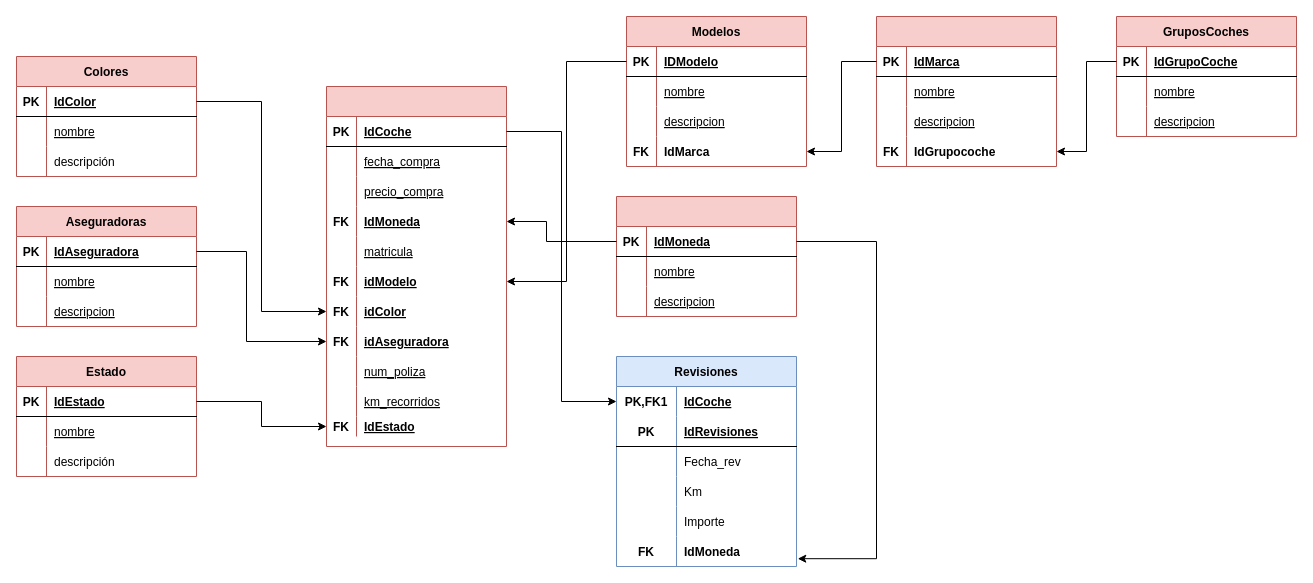
The diagram is 1313 pixels wide and 583 high, and some of its shapes have lost their labels. Here are the shapes that lost their labels. From the top down, the box of each, then its label:
(876, 16, 1056, 166): Marcas
(326, 86, 506, 446): Coches
(616, 196, 796, 316): Monedas
